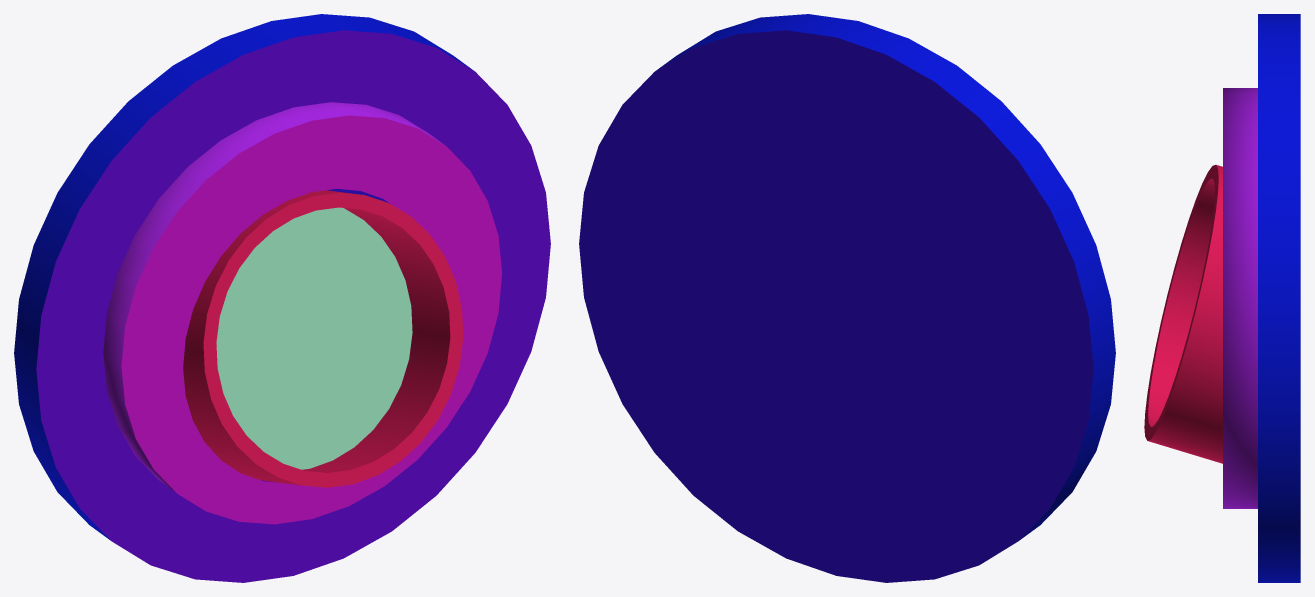
Rendered from epc_sb.fbx.
3 renders of one model, left to right at view 1: azimuth 30°, elevation 25°; view 2: azimuth 150°, elevation 25°; view 3: azimuth 270°, elevation 25°, orthographic. The views are drawn at different scales.
Visible parts, largest first — view 1: base, noozle, support; view 2: base; view 3: base, noozle, support.
Boxes of the visible parts, x1=… form: base: x1=14, y1=14, x2=550, y2=582; noozle: x1=183, y1=190, x2=463, y2=487; support: x1=103, y1=102, x2=502, y2=524; base: x1=579, y1=14, x2=1115, y2=582; base: x1=1258, y1=14, x2=1300, y2=582; noozle: x1=1144, y1=165, x2=1222, y2=463; support: x1=1223, y1=88, x2=1257, y2=508.
Size of the model in its own units: 0.4 by 0.4 by 0.1097.
